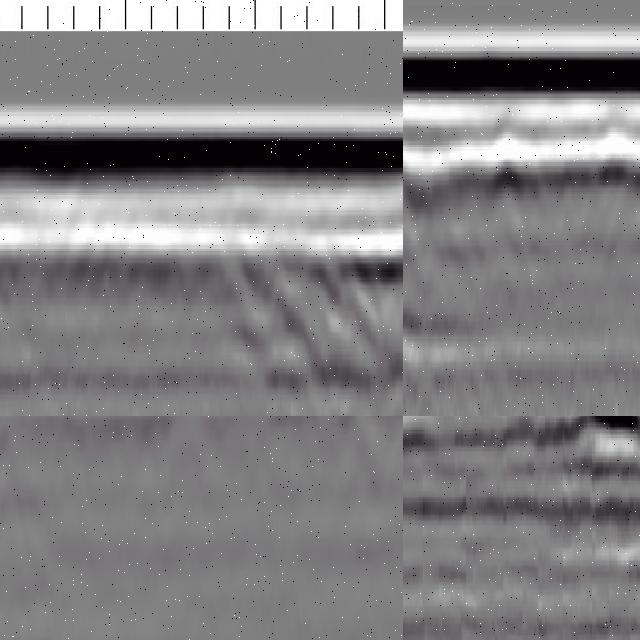loose: (216, 228, 404, 402), (404, 165, 441, 417)
